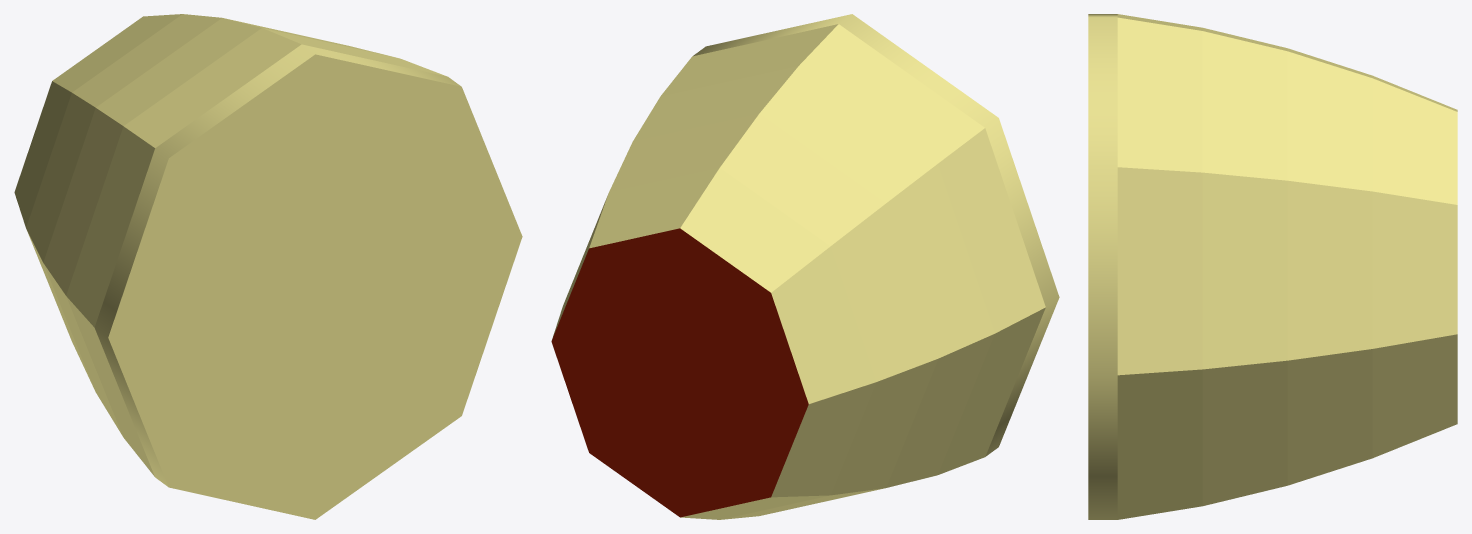
Rendered from low_pudding2.FBX.
The picture shows the model from 3 angles, left to right: view 1: azimuth 30°, elevation 25°; view 2: azimuth 150°, elevation 25°; view 3: azimuth 270°, elevation 25°; orthographic projection. The views are drawn at different scales.
Parts seen in each view (by area): view 1: Cylinder002; view 2: Cylinder002; view 3: Cylinder002.
Boxes of the visible parts, x1=… form: Cylinder002: x1=14, y1=14, x2=522, y2=519; Cylinder002: x1=551, y1=14, x2=1059, y2=519; Cylinder002: x1=1088, y1=14, x2=1457, y2=519.
Bounding box in the file's own units: 80 × 85.9 × 57.61.
